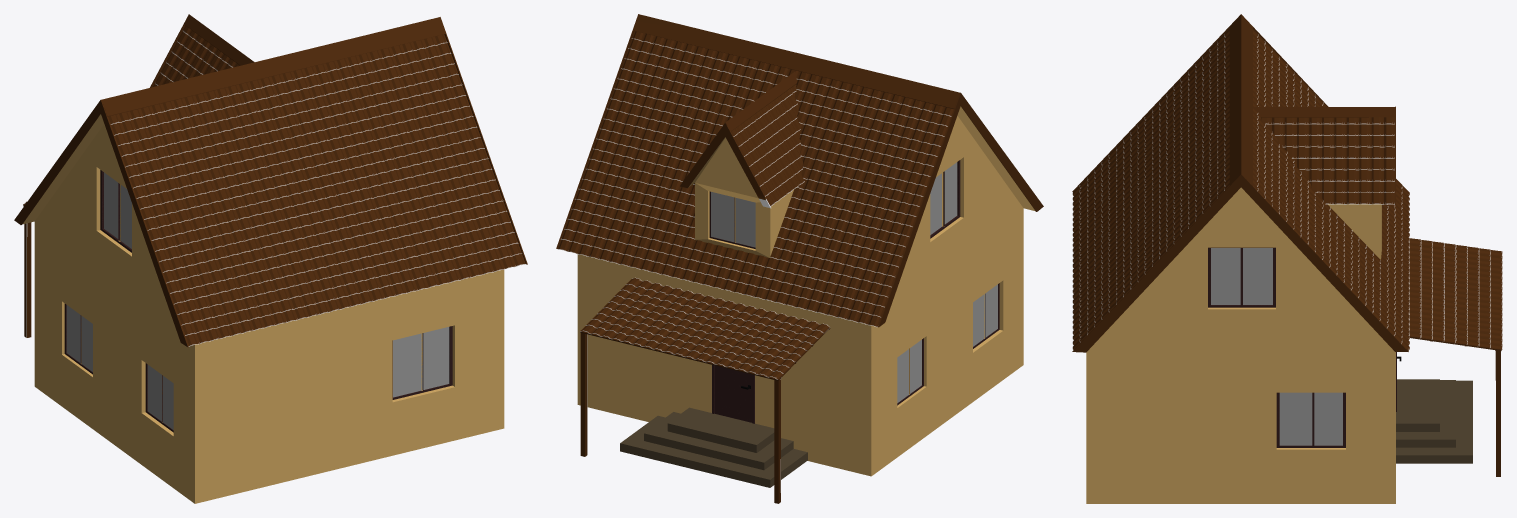
Rendered from domik_s_texturami.fbx.
3 views of the same model, side by side, from view 1: azimuth 30°, elevation 25°; view 2: azimuth 150°, elevation 25°; view 3: azimuth 270°, elevation 25° (orthographic). The views are drawn at different scales.
Parts seen in each view (by area): view 1: Cube, Плоскость.001, Cube.008, Cube.012, Плоскость.003, Cube.007, Cube.009, Cube.011; view 2: Плоскость, Cube, Плоскость.004, Cube.003, Cube.008, Плоскость.003, Cube.002, Cube.001, Cube.012, Cube.004, Cube.010, Cube.006 (+3 smaller); view 3: Cube, Плоскость.001, Плоскость, Плоскость.004, Плоскость.002, Cube.011, Cube.008, Cube.002, Cube.001, Cube.004, Cube.003, Cube.009 (+2 smaller).
Part boxes in pixels (x1=…): Cube: x1=23, y1=114, x2=504, y2=503; Плоскость.001: x1=108, y1=34, x2=525, y2=346; Cube.008: x1=102, y1=17, x2=445, y2=116; Cube.012: x1=14, y1=99, x2=188, y2=347; Плоскость.003: x1=153, y1=25, x2=239, y2=86; Cube.007: x1=24, y1=222, x2=31, y2=337; Cube.009: x1=184, y1=14, x2=254, y2=65; Cube.011: x1=439, y1=17, x2=527, y2=264; Плоскость: x1=557, y1=31, x2=953, y2=327; Cube: x1=577, y1=106, x2=1035, y2=476; Плоскость.004: x1=580, y1=277, x2=829, y2=379; Cube.003: x1=688, y1=137, x2=793, y2=257; Cube.008: x1=633, y1=14, x2=959, y2=108; Плоскость.003: x1=731, y1=84, x2=804, y2=206; Cube.002: x1=620, y1=415, x2=807, y2=487; Cube.001: x1=667, y1=407, x2=774, y2=452; Cube.012: x1=878, y1=92, x2=1043, y2=327; Cube.004: x1=644, y1=412, x2=793, y2=470; Cube.010: x1=680, y1=122, x2=770, y2=208; Cube.006: x1=580, y1=333, x2=587, y2=456; Cube: x1=1086, y1=187, x2=1396, y2=503; Плоскость.001: x1=1072, y1=29, x2=1229, y2=349; Плоскость: x1=1253, y1=29, x2=1409, y2=351; Плоскость.004: x1=1409, y1=238, x2=1502, y2=349; Плоскость.002: x1=1261, y1=117, x2=1394, y2=204; Cube.011: x1=1072, y1=174, x2=1408, y2=352; Cube.008: x1=1229, y1=15, x2=1252, y2=185; Cube.002: x1=1396, y1=380, x2=1472, y2=463; Cube.001: x1=1396, y1=379, x2=1439, y2=431; Cube.004: x1=1396, y1=380, x2=1455, y2=447; Cube.003: x1=1328, y1=204, x2=1381, y2=259; Cube.009: x1=1254, y1=107, x2=1394, y2=117.
Bounding box in the file's own units: 1706 × 1675 × 1936.
